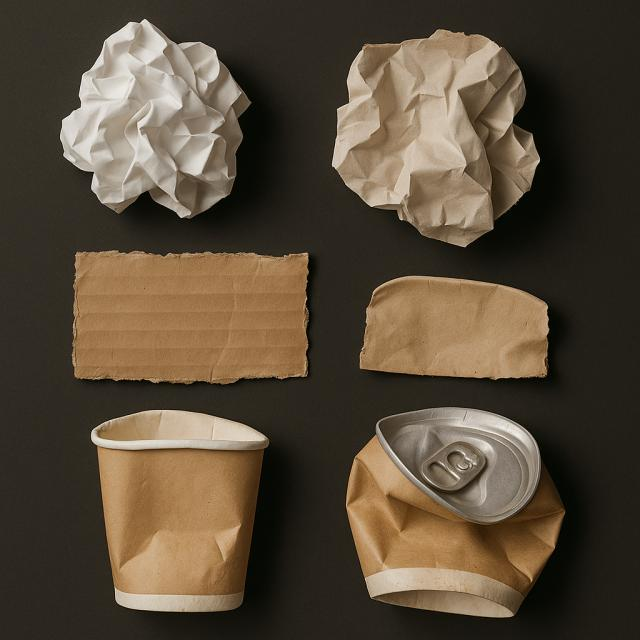paper: (337, 33, 543, 244), (90, 409, 272, 614), (66, 28, 247, 217), (62, 250, 314, 382), (357, 272, 550, 392)
